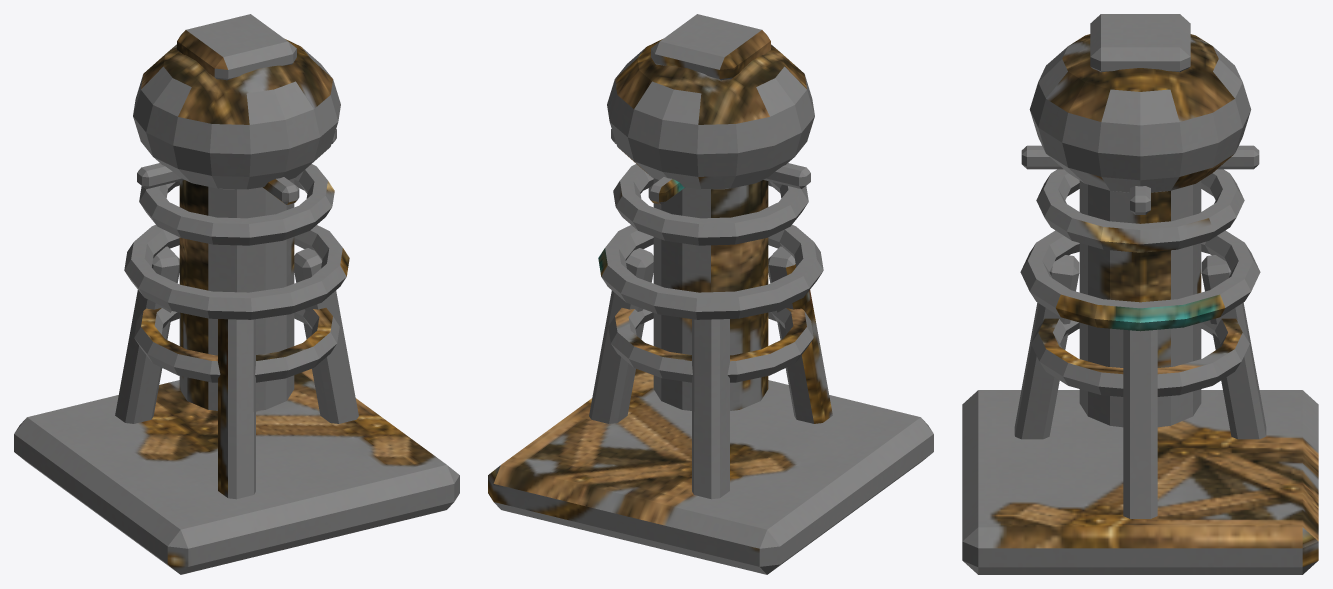
File: turret.glb
3 views of the same model, side by side, from view 1: azimuth 30°, elevation 25°; view 2: azimuth 150°, elevation 25°; view 3: azimuth 270°, elevation 25° (orthographic). The views are drawn at different scales.
Parts seen in each view (by area): view 1: SignalTurret; view 2: SignalTurret; view 3: SignalTurret.
Boxes of the visible parts, x1=… form: SignalTurret: x1=14, y1=14, x2=459, y2=574; SignalTurret: x1=488, y1=14, x2=933, y2=574; SignalTurret: x1=962, y1=14, x2=1318, y2=574.
Size of the model in its own units: 1.35 by 1.99 by 1.35.
1 material, 1 textured.
